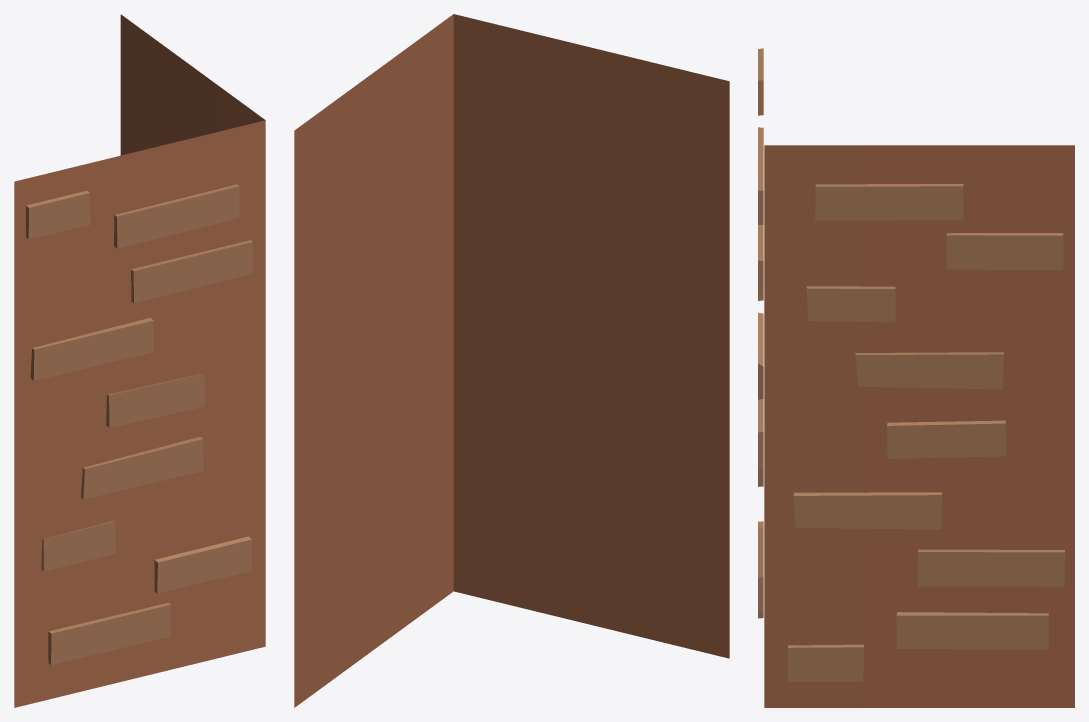
File: Ext-BrickV3Corner.fbx
3 views of the same model, side by side, from view 1: azimuth 30°, elevation 25°; view 2: azimuth 150°, elevation 25°; view 3: azimuth 270°, elevation 25° (orthographic). The views are drawn at different scales.
Visible parts, largest first — view 1: Ext-BrickV3Corner; view 2: Ext-BrickV3Corner; view 3: Ext-BrickV3Corner.
Part boxes in pixels (left/top/right/bottom): Ext-BrickV3Corner: left=14, top=14, right=265, bottom=707; Ext-BrickV3Corner: left=294, top=14, right=729, bottom=707; Ext-BrickV3Corner: left=758, top=48, right=1074, bottom=707.
Size of the model in its own units: 102 by 200 by 102.
